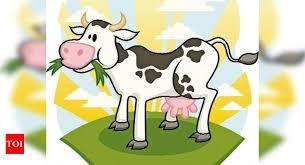cow: (59, 21, 219, 149)
